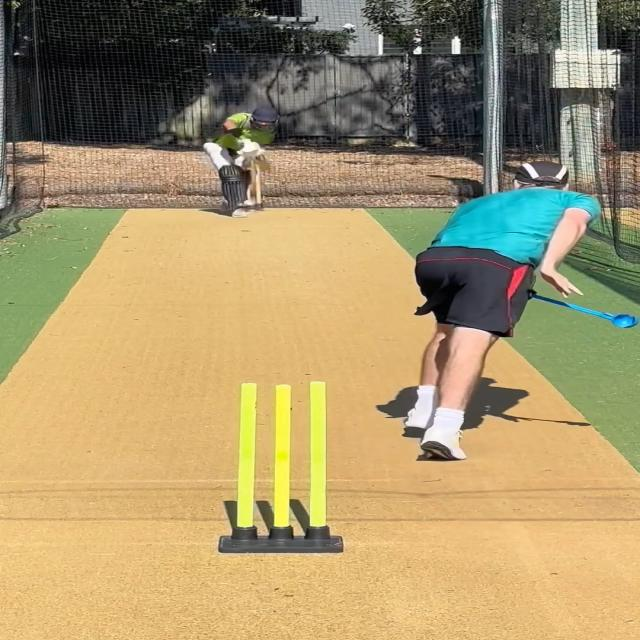ball: (240, 198, 257, 208)
stump: (219, 380, 345, 554)
